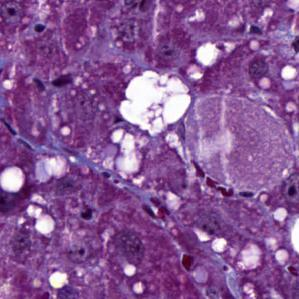ballooning: (117, 67, 194, 139)
